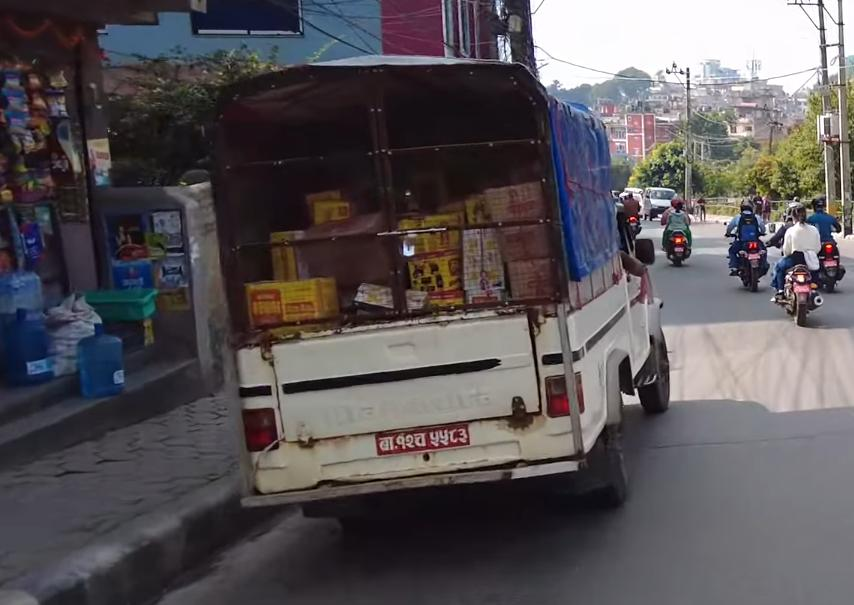SUV: (641, 174, 677, 224)
bike: (770, 207, 818, 327), (718, 195, 771, 298), (800, 195, 854, 295), (660, 199, 693, 270), (613, 191, 642, 246)
transport_vehicle: (200, 42, 680, 521)
